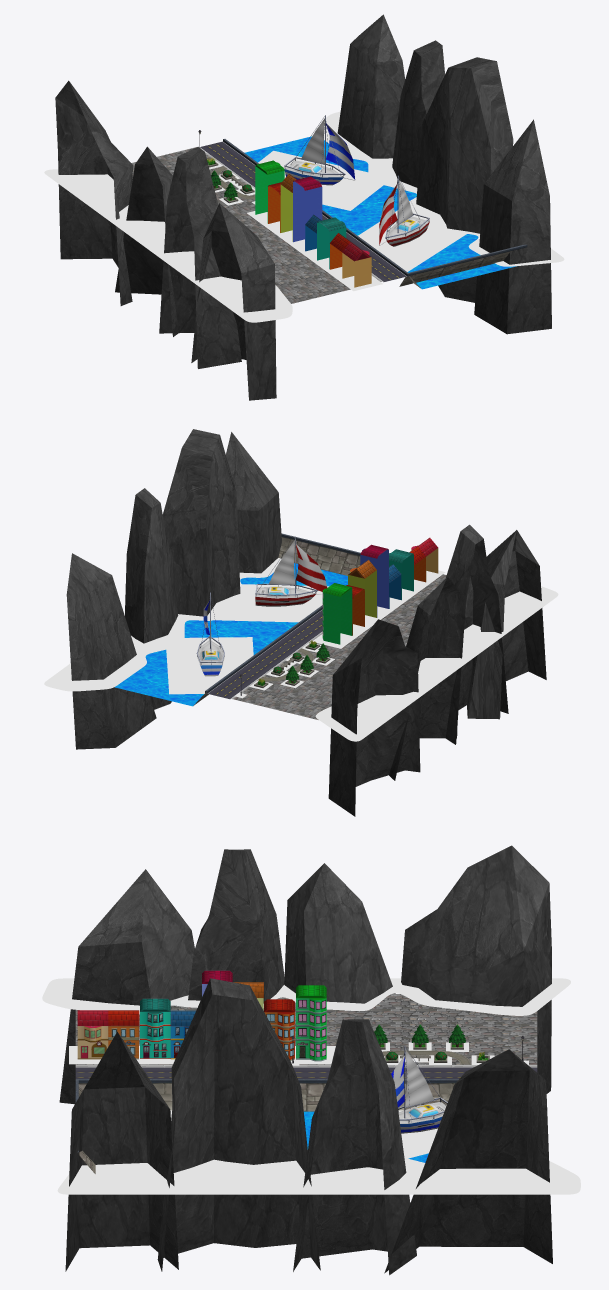
The model's file is City_07.fbx.
The picture shows the model from 3 angles, top to bottom: view 1: azimuth 30°, elevation 25°; view 2: azimuth 150°, elevation 25°; view 3: azimuth 270°, elevation 25°; orthographic projection. The views are drawn at different scales.
Visible parts, largest first — view 1: City_07; view 2: City_07; view 3: City_07.
Part boxes in pixels (left/top/right/bottom): City_07: left=44, top=14, right=564, bottom=400; City_07: left=44, top=429, right=558, bottom=816; City_07: left=42, top=845, right=580, bottom=1275.
Bounding box in the file's own units: 22617 × 13384 × 25170.
